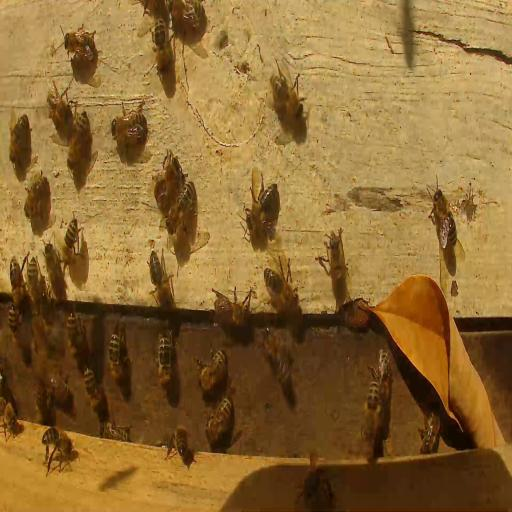bee: (264, 325, 294, 397), (244, 184, 281, 236), (431, 188, 458, 250), (167, 181, 197, 235), (271, 75, 304, 124), (151, 157, 184, 205), (148, 250, 174, 308), (196, 350, 228, 396), (213, 288, 249, 328), (68, 107, 90, 172), (265, 268, 297, 310), (204, 398, 232, 446), (8, 112, 30, 172), (362, 376, 382, 438), (111, 108, 147, 142), (41, 425, 75, 460), (24, 173, 49, 218), (163, 426, 192, 462), (44, 242, 63, 296), (64, 28, 96, 60), (0, 398, 24, 440), (153, 19, 171, 72), (47, 85, 70, 125), (10, 257, 26, 313), (64, 210, 80, 266), (326, 227, 345, 273), (420, 412, 440, 454), (378, 347, 392, 407), (68, 306, 82, 366), (157, 329, 173, 380), (51, 372, 74, 406), (26, 251, 40, 301), (181, 0, 206, 26), (101, 420, 132, 440), (142, 1, 173, 19), (84, 365, 98, 402), (360, 426, 374, 463), (34, 383, 47, 421), (108, 332, 120, 367), (8, 302, 20, 334)
